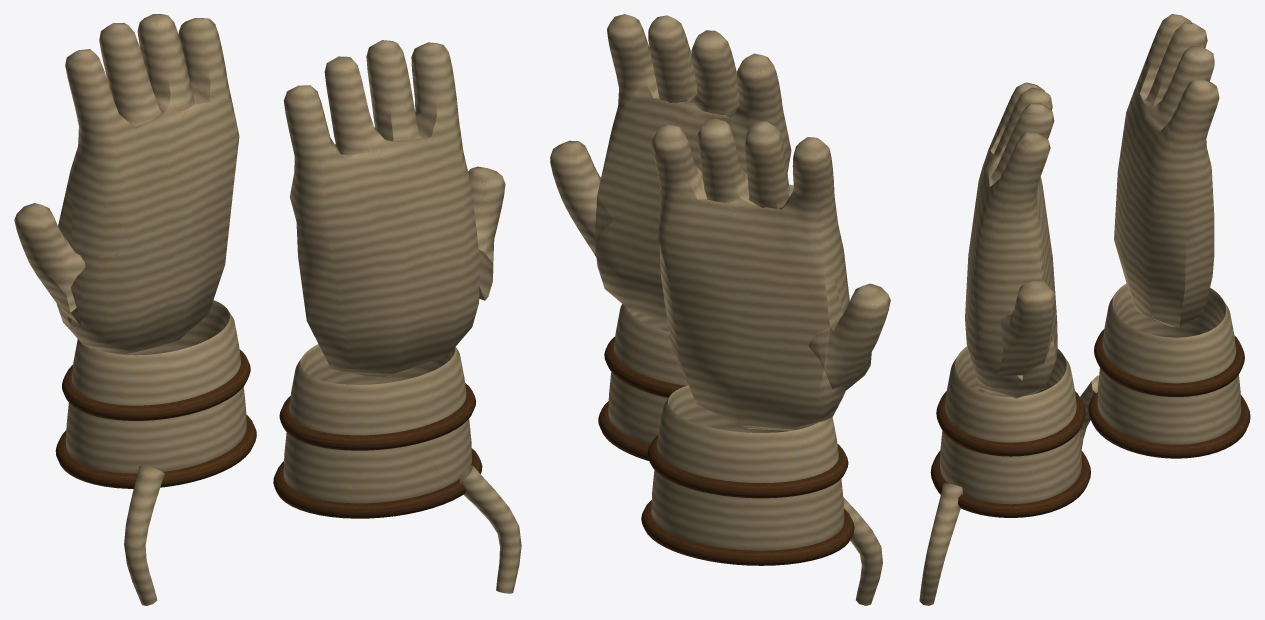
The model's file is cloth_wraps.glb.
3 renders of one model, left to right at view 1: azimuth 30°, elevation 25°; view 2: azimuth 150°, elevation 25°; view 3: azimuth 270°, elevation 25°, orthographic. The views are drawn at different scales.
Visible parts, largest first — view 1: cloth_wraps, cloth_wraps_mirror; view 2: cloth_wraps_mirror, cloth_wraps; view 3: cloth_wraps_mirror, cloth_wraps.
Boxes of the visible parts, x1=… form: cloth_wraps: x1=273, y1=40, x2=521, y2=593; cloth_wraps_mirror: x1=14, y1=14, x2=256, y2=605; cloth_wraps_mirror: x1=641, y1=118, x2=890, y2=605; cloth_wraps: x1=550, y1=14, x2=791, y2=460; cloth_wraps_mirror: x1=1079, y1=14, x2=1250, y2=458; cloth_wraps: x1=919, y1=82, x2=1090, y2=605.
Bounding box in the file's own units: 0.2301 × 0.2796 × 0.1775.
1 material, 1 textured.
